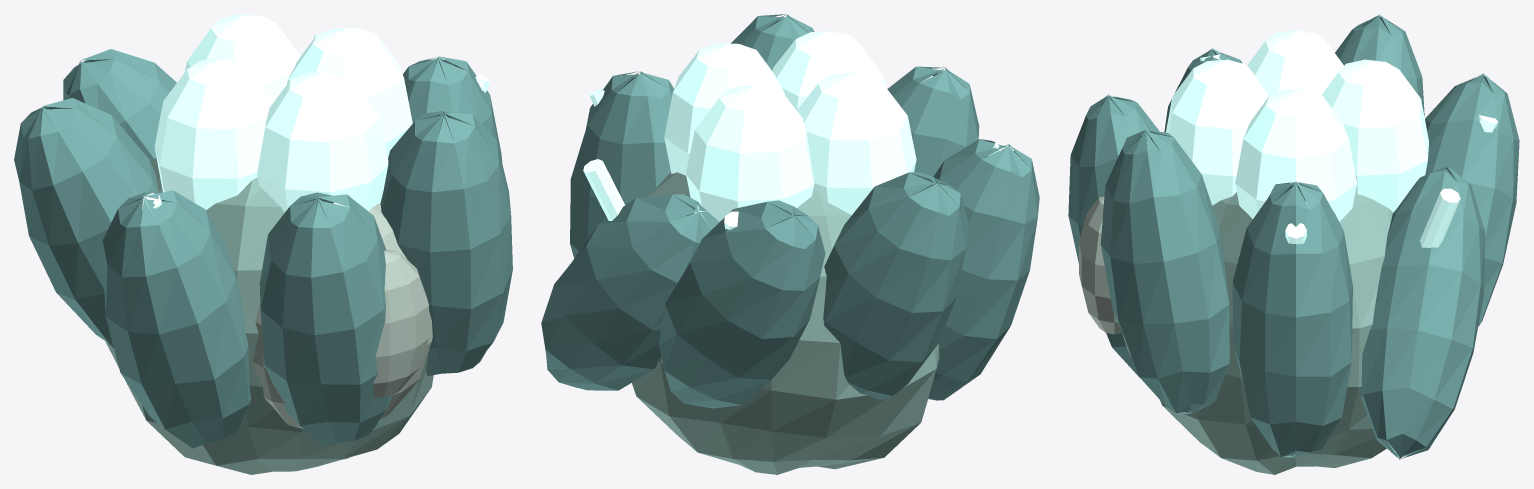
Rendered from organic_high.gltf.
3 views of the same model, side by side, from view 1: azimuth 30°, elevation 25°; view 2: azimuth 150°, elevation 25°; view 3: azimuth 270°, elevation 25° (orthographic). The views are drawn at different scales.
Visible parts, largest first — view 1: organic_high; view 2: organic_high; view 3: organic_high.
Part boxes in pixels (bbox=[...]): organic_high: bbox=[14, 14, 512, 474]; organic_high: bbox=[541, 14, 1039, 474]; organic_high: bbox=[1068, 14, 1519, 474].
Bounding box in the file's own units: 1.24 × 1.14 × 1.17.
